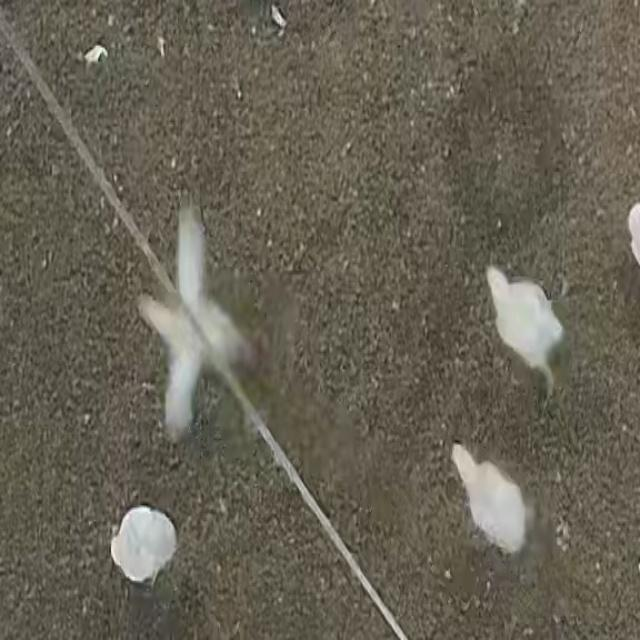chicken: (123, 200, 265, 443), (484, 256, 573, 402), (444, 441, 534, 563), (107, 503, 180, 589)
